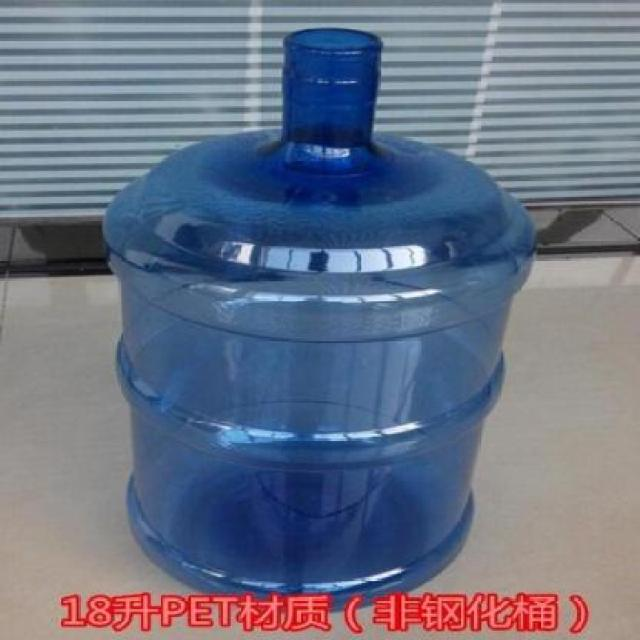coolerbottle: (98, 24, 542, 614)
